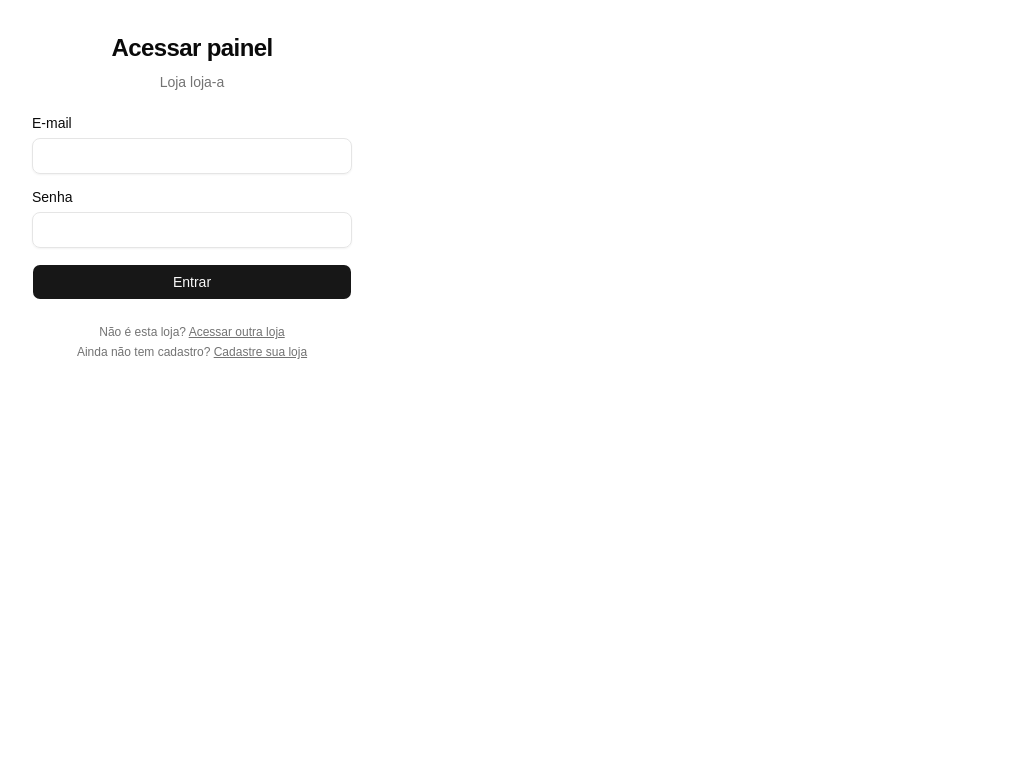
Scenario: Sign In › should say when the store still waits for approval
Type "maria@loja-a.com" into the field labelled "E-mail" at (192, 156), box [32, 138, 352, 174]
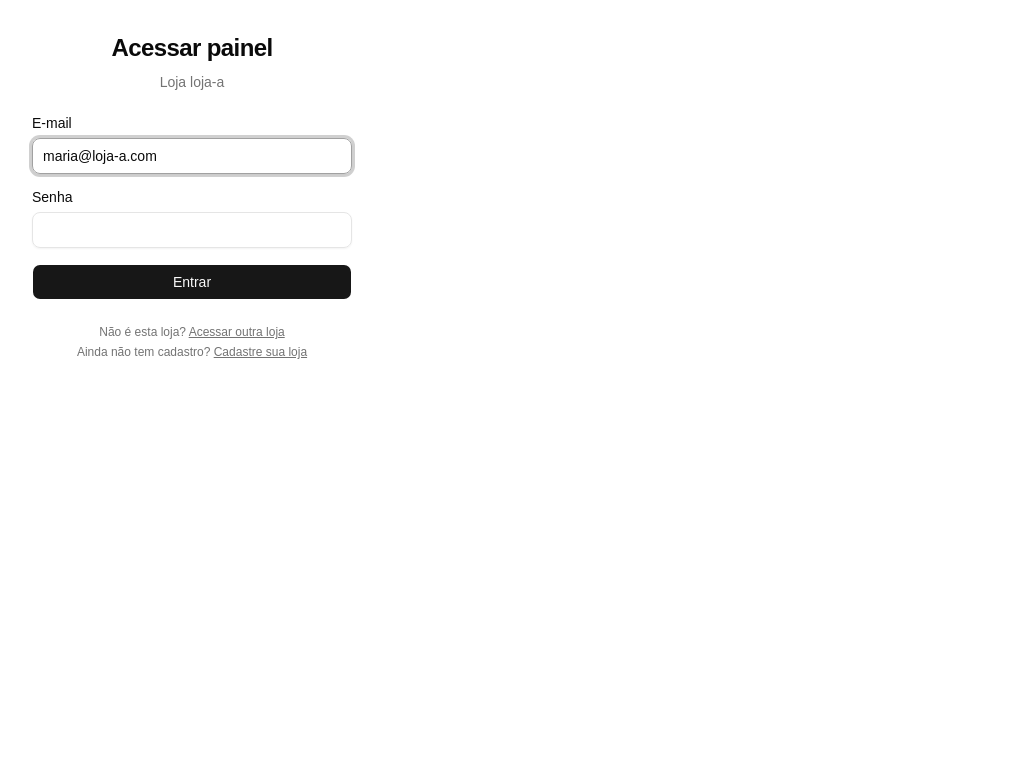
Type "123456" into the password field labelled "Senha" at (192, 230), box [32, 212, 352, 248]
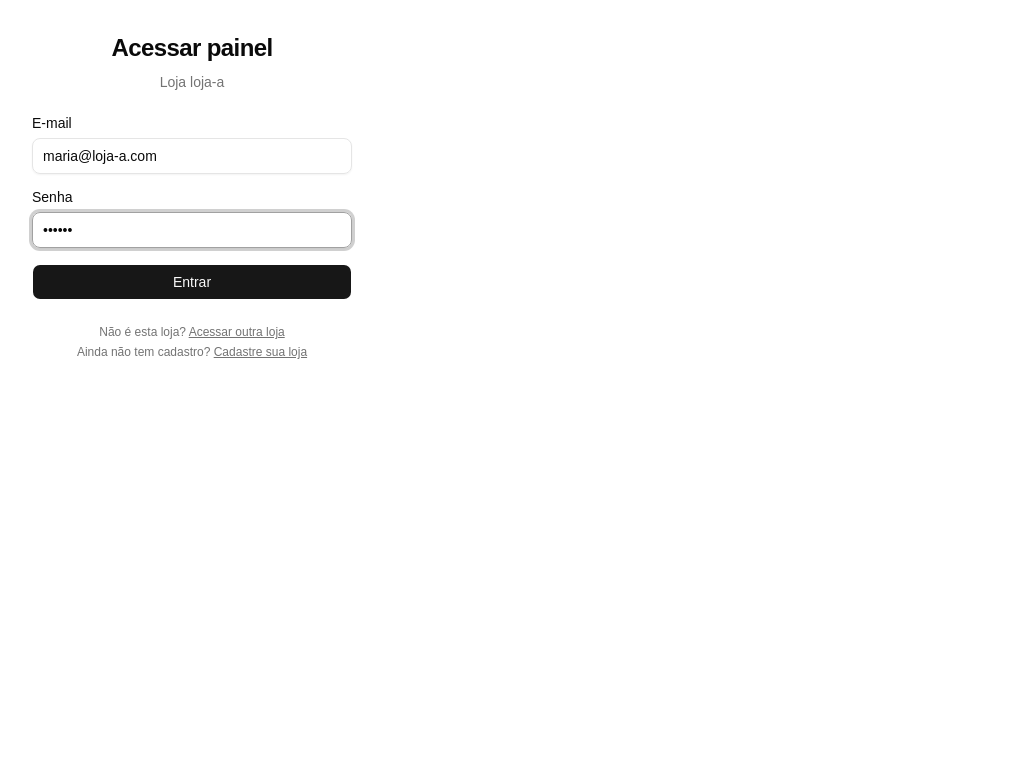
Click the button "Entrar" at (192, 282), box [32, 264, 352, 300]
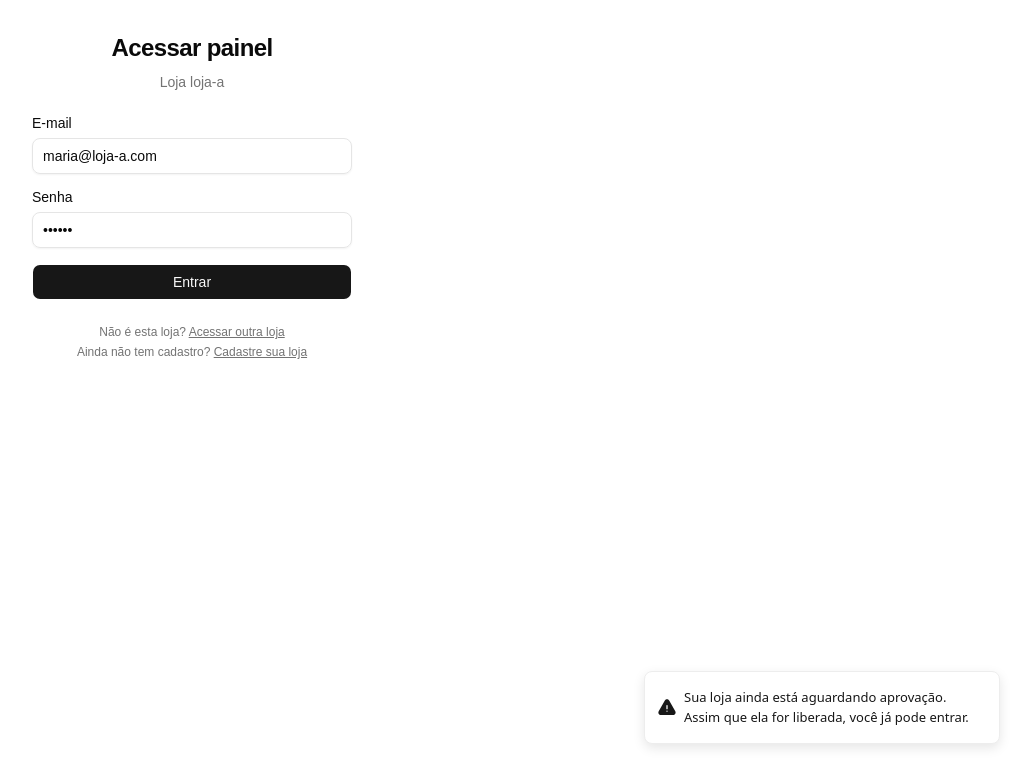
Now the text "Sua loja ainda está aguardando aprovação" is shown, box [684, 688, 969, 726]
